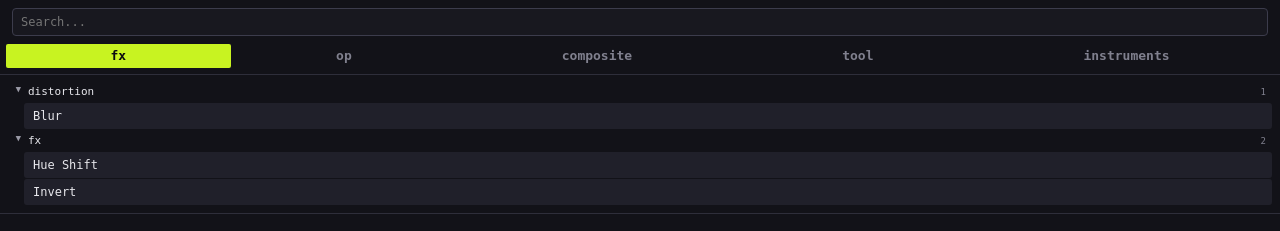
Scenario: Chaos — Rapid Clicks on Categories › rapid folder toggling does not corrupt expansion state
Click the button with class "effect-browser__folder-header" showing "▶ distortion 1": (61, 92) [8,81,1272,102]
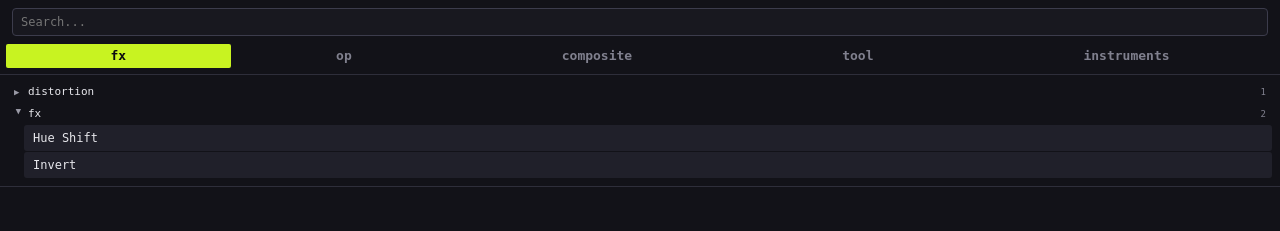
Click the button with class "effect-browser__folder-header" showing "▶ fx 2": (19, 111) [8,103,1272,124]
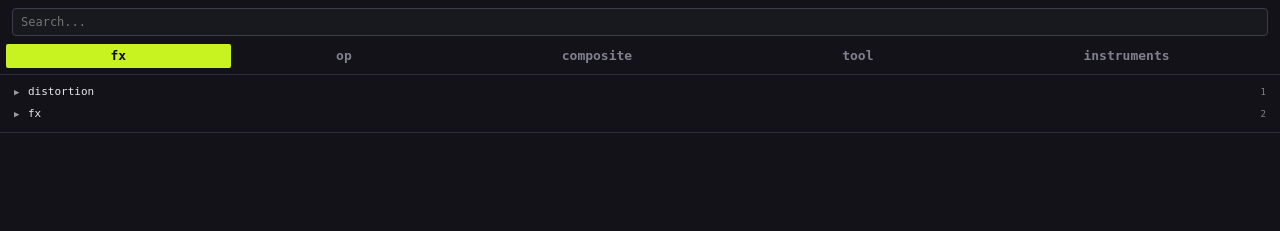
Click the button with class "effect-browser__folder-header" showing "▶ distortion 1": (61, 92) [8,81,1272,102]
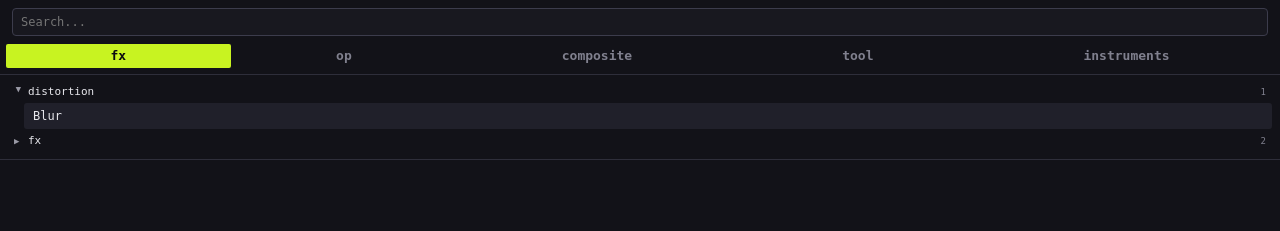
Click the button with class "effect-browser__folder-header" showing "▶ fx 2": (17, 141) [8,130,1272,151]
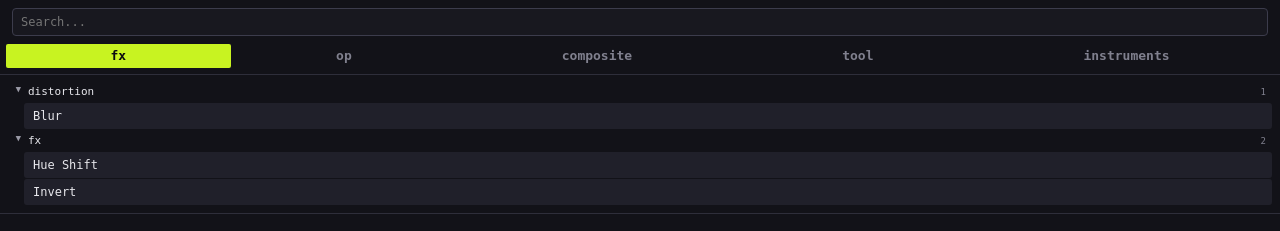
Expected: the number of buttons with class "effect-browser__item" is 3, [24,103,1272,129]; [24,152,1272,178]; [24,179,1272,205]
